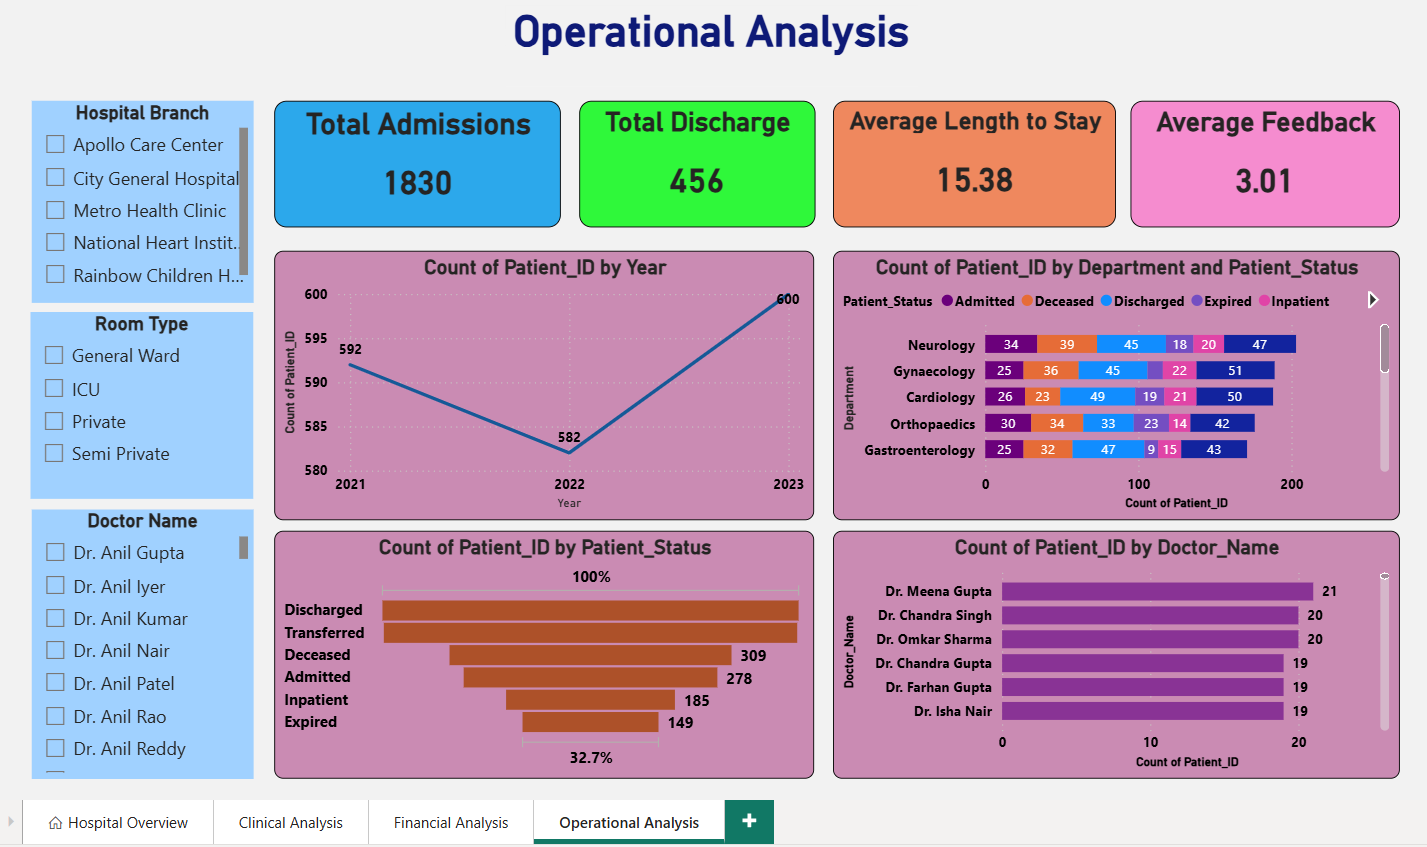

What the dashboard file says about the page in this screenshot:
{"tool":"powerbi","page":{"name":"Operational Analysis","canvas":[1280,720],"ordinal":3},"visuals":[{"type":"slicer","title":"Hospital Branch","fields":{"Values":["Raw_Patient_Data.Hospital_Branch"]},"box":[34.5,97.2,197.5,180.2],"z":0},{"type":"slicer","title":"Room Type","fields":{"Values":["Raw_Patient_Data.Room_Type"]},"box":[33,284.9,198.1,166.3],"z":1000},{"type":"slicer","title":"Doctor Name","fields":{"Values":["Raw_Patient_Data.Doctor_Name"]},"box":[34.5,460.8,197.5,239.8],"z":2000},{"type":"card","title":"Total Admissions","fields":{"Values":["Raw_Patient_Data.Total Admission"]},"box":[250.8,97.2,255.5,112.8],"z":3000},{"type":"card","title":"Total Discharge","fields":{"Values":["Raw_Patient_Data.Total Discharge"]},"box":[521.9,97.2,210,112.8],"z":4000},{"type":"card","title":"Average Length to Stay","fields":{"Values":["Raw_Patient_Data.Average Length of Stay"]},"box":[747.6,97.2,252.3,112.8],"z":5000},{"type":"card","title":"Average Feedback","fields":{"Values":["Raw_Patient_Data.Average Feedback"]},"box":[1012.4,97.2,239.8,112.8],"z":6000},{"type":"lineChart","fields":{"Category":["Raw_Patient_Data.Admission_Date.Variation.Date Hierarchy.Year","Raw_Patient_Data.Admission_Date.Variation.Date Hierarchy.Quarter","Raw_Patient_Data.Admission_Date.Variation.Date Hierarchy.Month","Raw_Patient_Data.Admission_Date.Variation.Date Hierarchy.Day"],"Y":["CountNonNull(Raw_Patient_Data.Patient_ID)"]},"box":[250.8,230.4,481.1,239.8],"z":7000},{"type":"funnel","fields":{"Category":["Raw_Patient_Data.Patient_Status"],"Y":["CountNonNull(Raw_Patient_Data.Patient_ID)"]},"box":[250.8,479.6,481.1,221],"z":8000},{"type":"barChart","fields":{"Category":["Raw_Patient_Data.Department"],"Y":["CountNonNull(Raw_Patient_Data.Patient_ID)"],"Series":["Raw_Patient_Data.Patient_Status"]},"box":[747.6,230.4,504.7,239.8],"z":9000},{"type":"clusteredBarChart","fields":{"Y":["CountNonNull(Raw_Patient_Data.Patient_ID)"],"Category":["Raw_Patient_Data.Doctor_Name"]},"box":[747.6,479.6,504.7,221],"z":10000},{"type":"textbox","title":"Operational Analysis","box":[456.6,12.5,366.7,61.1],"z":11000}]}

Visuals, with their boxes on the page's 1280x720 design canvas (x1, y1, x2, y2). These are canvas units, not pixel positions in the 1427x847 screenshot, which may show the page scaled, cropped or inside an application window:
"Hospital Branch" slicer: <bbox>34, 97, 232, 277</bbox>
"Room Type" slicer: <bbox>33, 285, 231, 451</bbox>
"Doctor Name" slicer: <bbox>34, 461, 232, 701</bbox>
"Total Admissions" card: <bbox>251, 97, 506, 210</bbox>
"Total Discharge" card: <bbox>522, 97, 732, 210</bbox>
"Average Length to Stay" card: <bbox>748, 97, 1000, 210</bbox>
"Average Feedback" card: <bbox>1012, 97, 1252, 210</bbox>
lineChart - Raw_Patient_Data.Admission_Date.Variation.Date Hierarchy.Year x Raw_Patient_Data.Admission_Date.Variation.Date Hierarchy.Quarter: <bbox>251, 230, 732, 470</bbox>
funnel - Raw_Patient_Data.Patient_Status x CountNonNull(Raw_Patient_Data.Patient_ID): <bbox>251, 480, 732, 701</bbox>
barChart - Raw_Patient_Data.Department x CountNonNull(Raw_Patient_Data.Patient_ID): <bbox>748, 230, 1252, 470</bbox>
clusteredBarChart - CountNonNull(Raw_Patient_Data.Patient_ID) x Raw_Patient_Data.Doctor_Name: <bbox>748, 480, 1252, 701</bbox>
"Operational Analysis" textbox: <bbox>457, 12, 823, 74</bbox>
